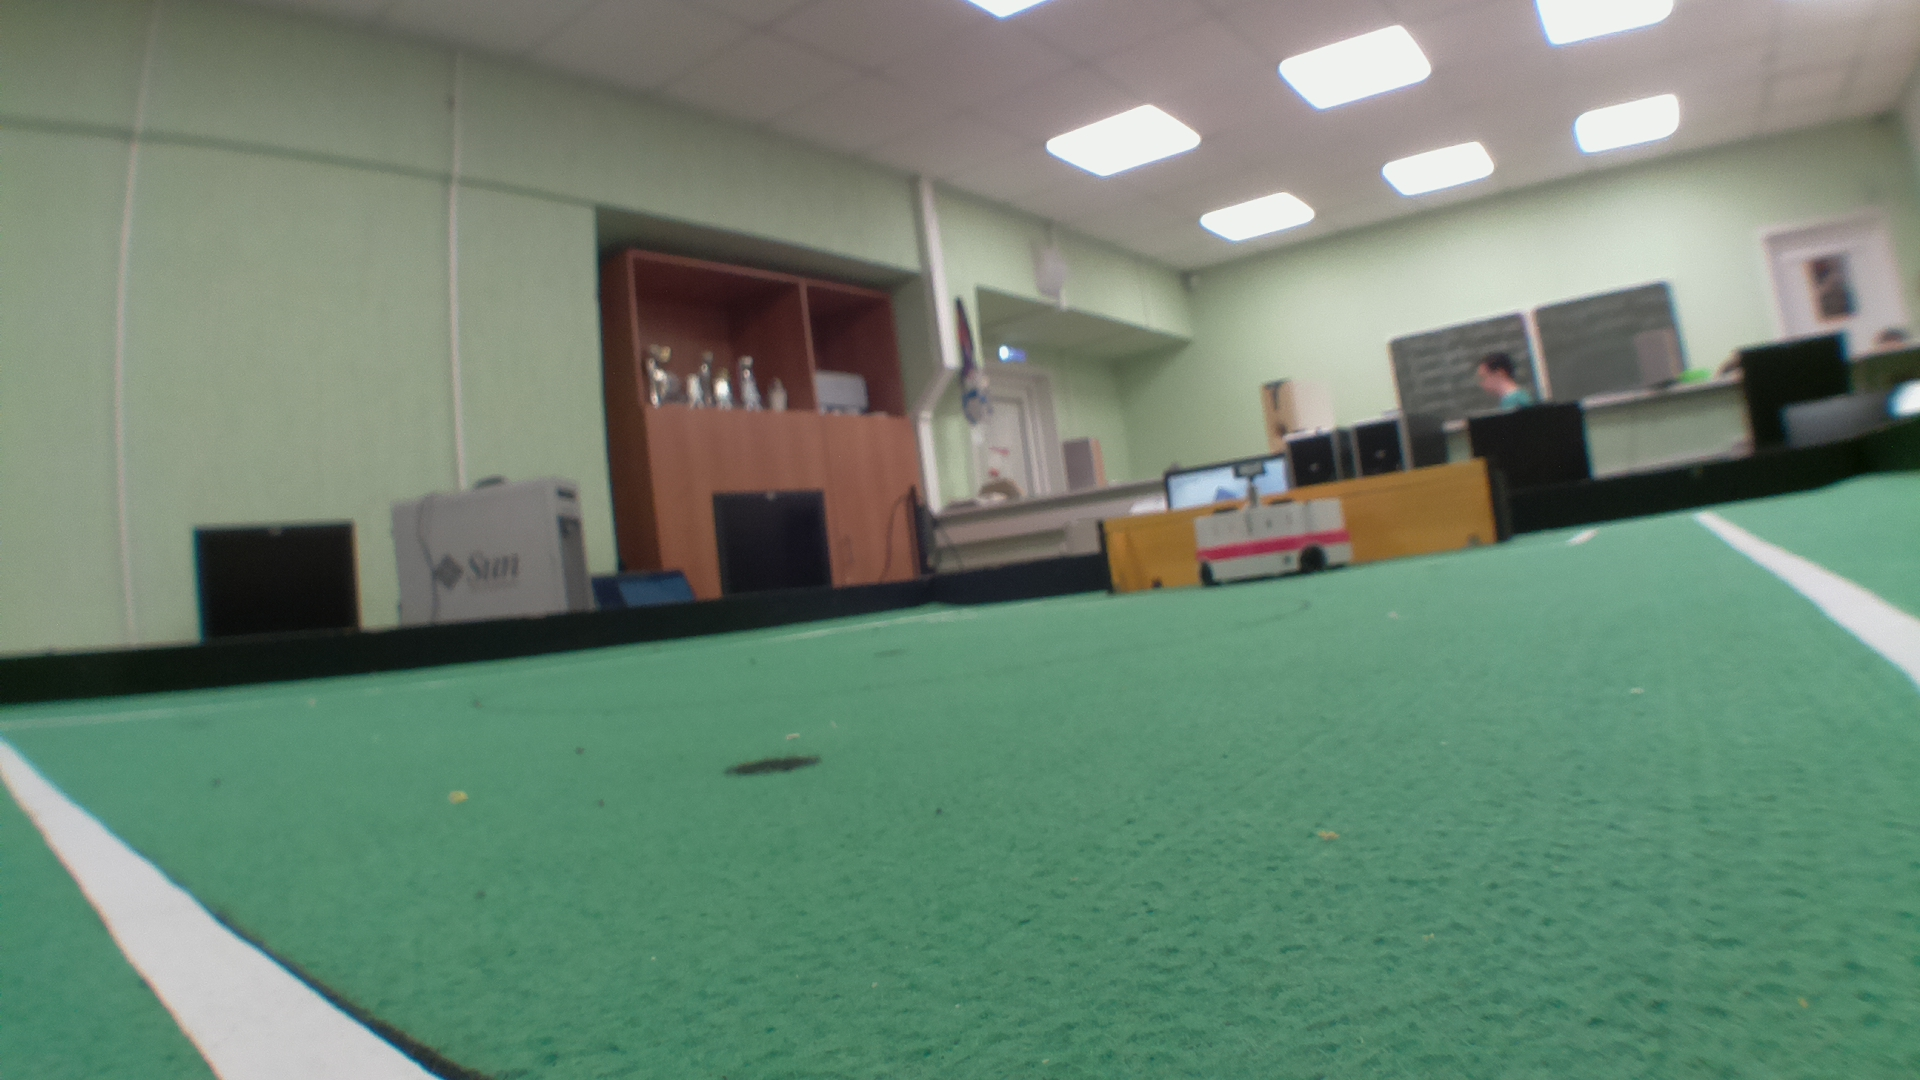YellowGoal: (1106, 469, 1489, 567)
